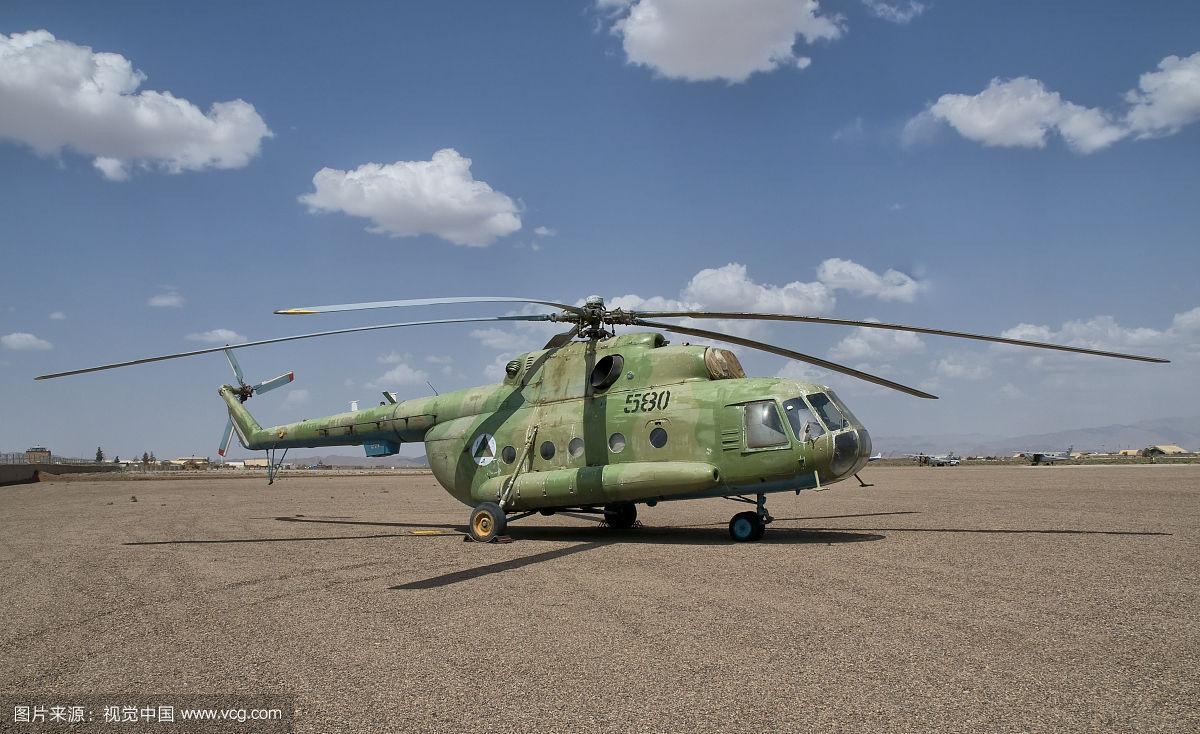airplane: (19, 295, 1183, 540)
